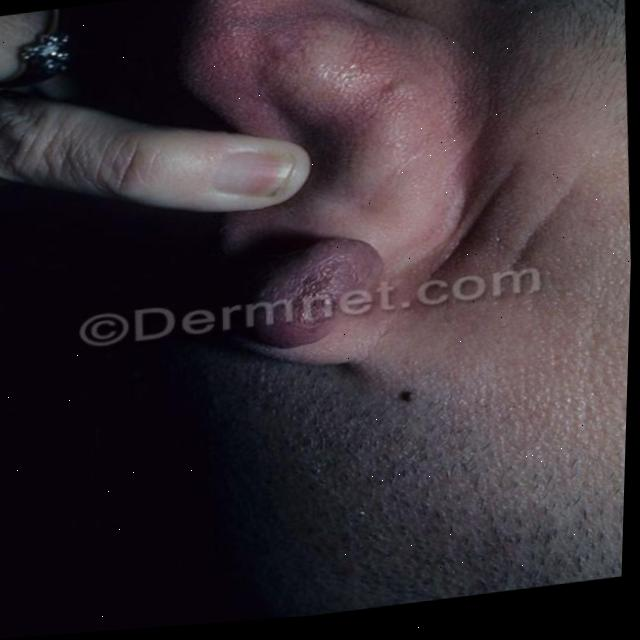Eczema: (256, 0, 346, 98), (256, 264, 353, 332)
